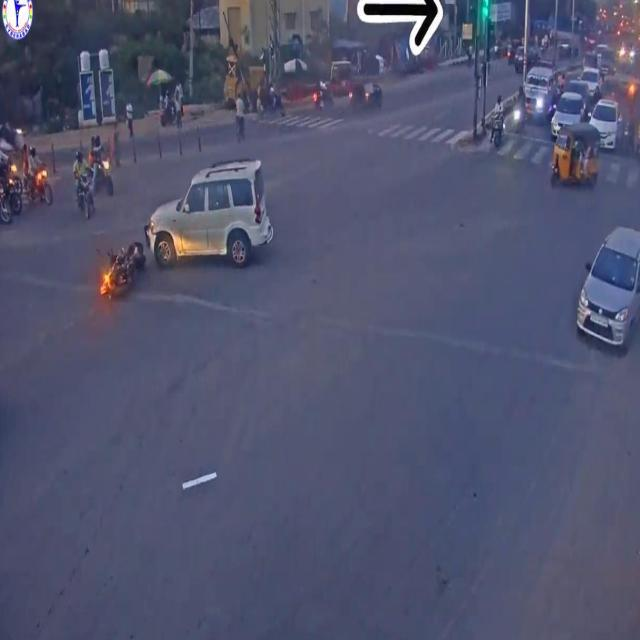accident: (93, 146, 283, 318)
non_accident: (491, 66, 640, 198), (0, 134, 55, 232), (74, 125, 117, 223)
